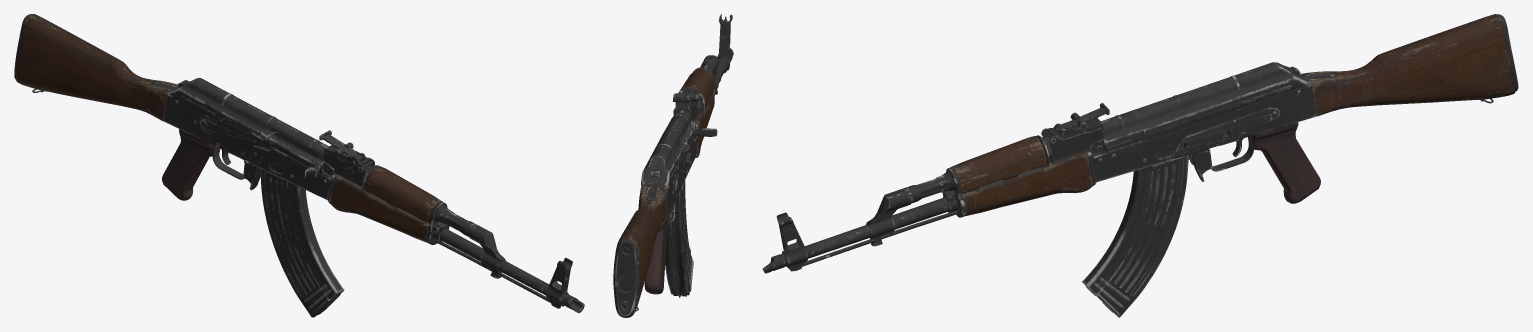
The model's file is GunMount.fbx.
3 renders of one model, left to right at view 1: azimuth 30°, elevation 25°; view 2: azimuth 150°, elevation 25°; view 3: azimuth 270°, elevation 25°, orthographic. The views are drawn at different scales.
Parts seen in each view (by area): view 1: AK47_CS2; view 2: AK47_CS2; view 3: AK47_CS2.
Boxes of the visible parts, bbox=[...] form: AK47_CS2: bbox=[14, 14, 584, 317]; AK47_CS2: bbox=[613, 14, 733, 317]; AK47_CS2: bbox=[762, 14, 1518, 317].
Size of the model in its own units: 37.34 by 30.36 by 88.4.
